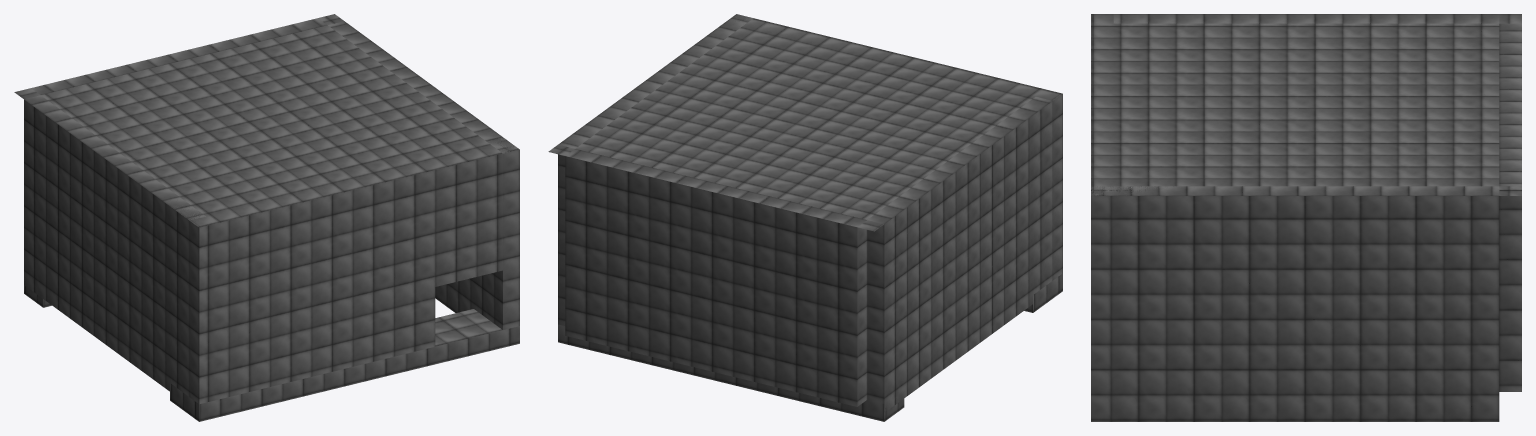
File: Level_12.fbx
The picture shows the model from 3 angles, left to right: view 1: azimuth 30°, elevation 25°; view 2: azimuth 150°, elevation 25°; view 3: azimuth 270°, elevation 25°; orthographic projection. The views are drawn at different scales.
Visible parts, largest first — view 1: NoTeleport.002; view 2: NoTeleport.002; view 3: NoTeleport.002.
Part boxes in pixels (box(x1,y1,x2,y2)): NoTeleport.002: box(14, 14, 519, 421); NoTeleport.002: box(548, 14, 1062, 421); NoTeleport.002: box(1091, 14, 1521, 421).
Size of the model in its own units: 19 by 19 by 11.
